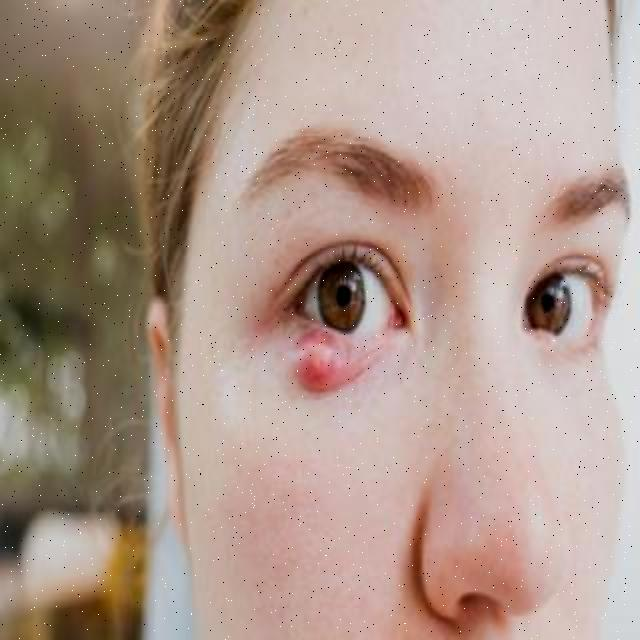Stye: (254, 305, 378, 413)
